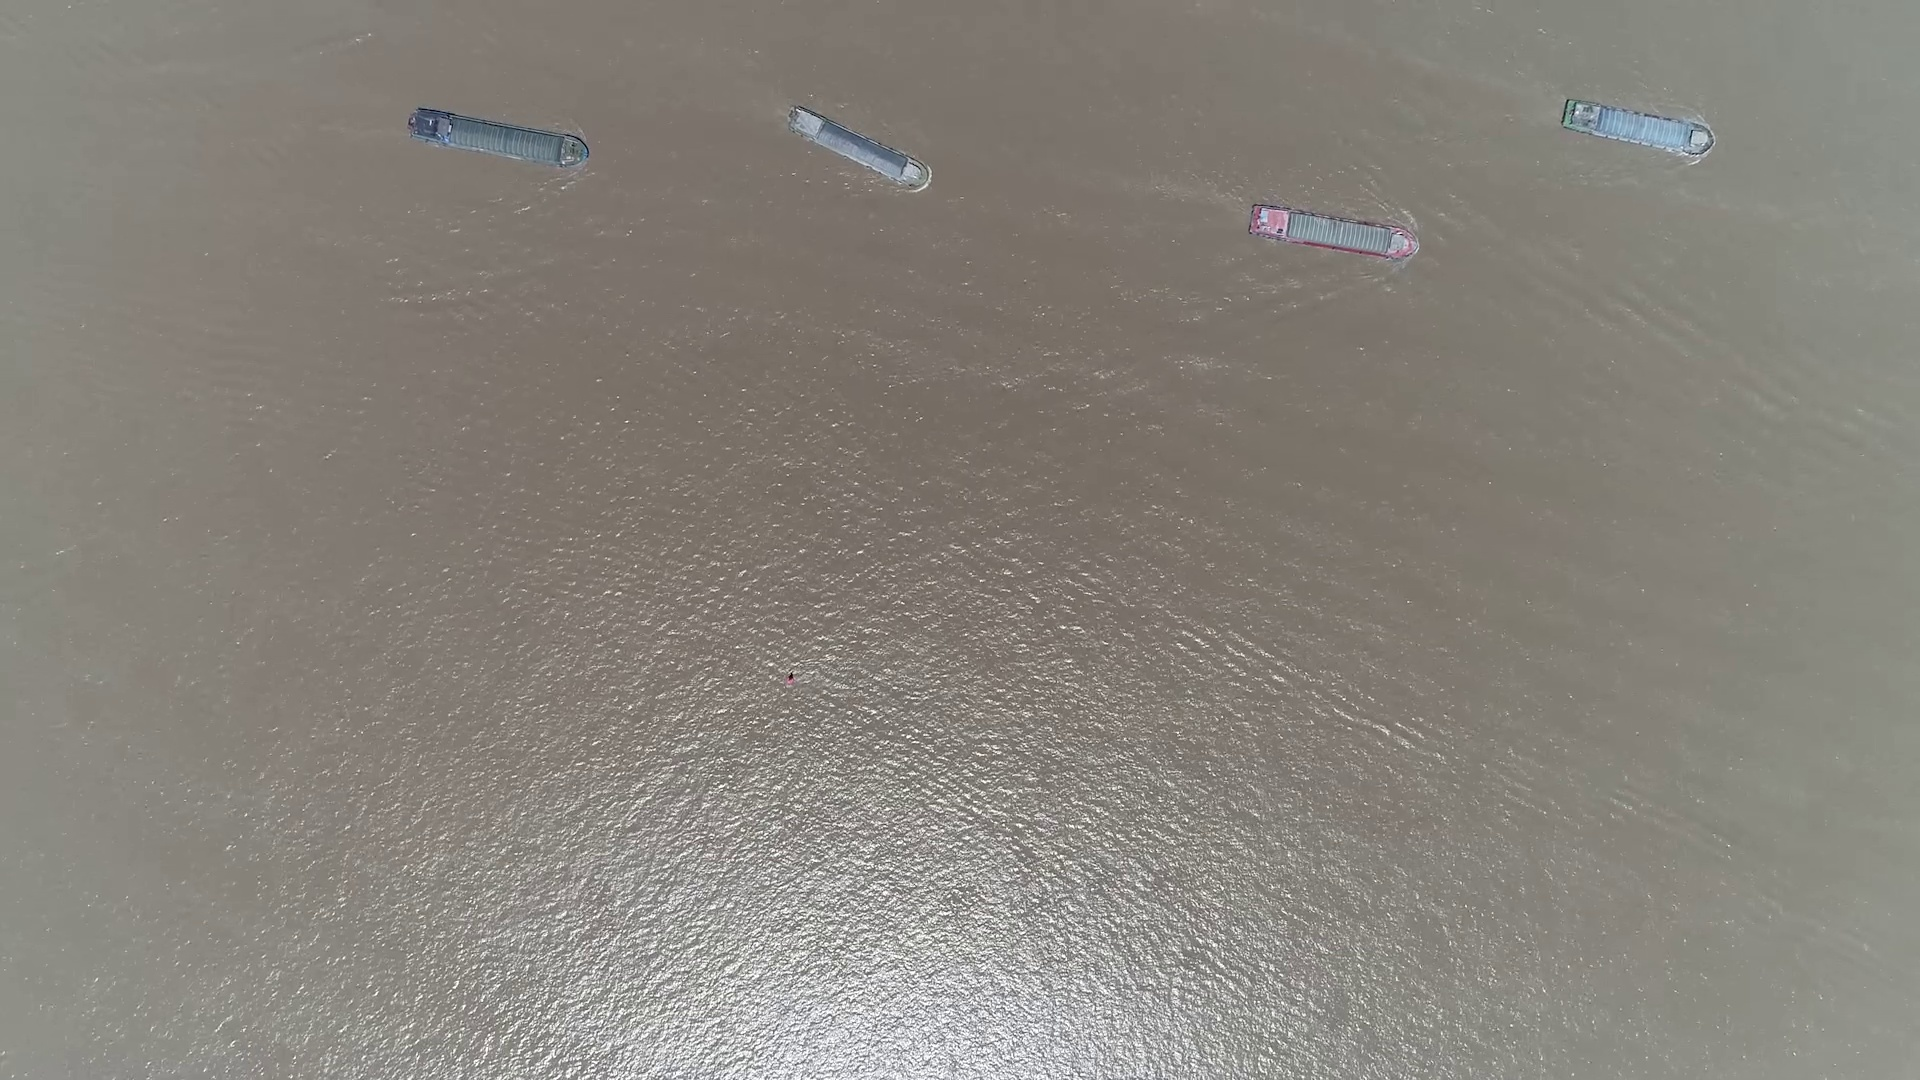ship: (789, 109, 930, 189), (409, 109, 589, 169), (1247, 204, 1419, 260), (1559, 102, 1712, 153)
